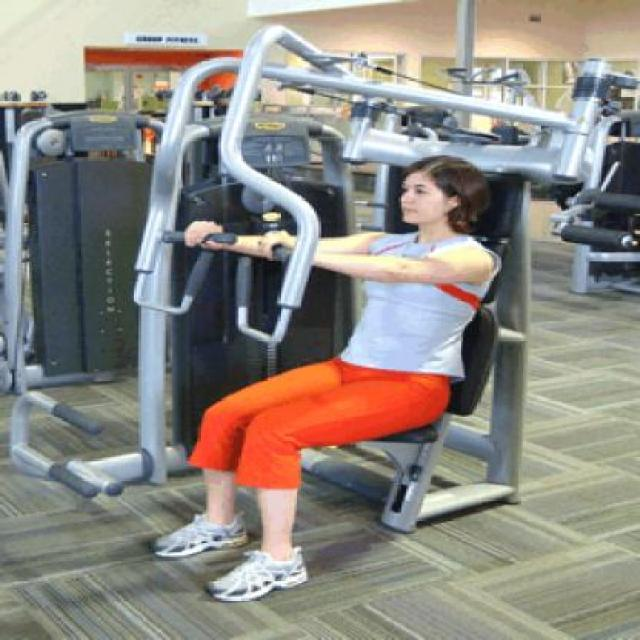Chest Press machine: (3, 20, 614, 606)
